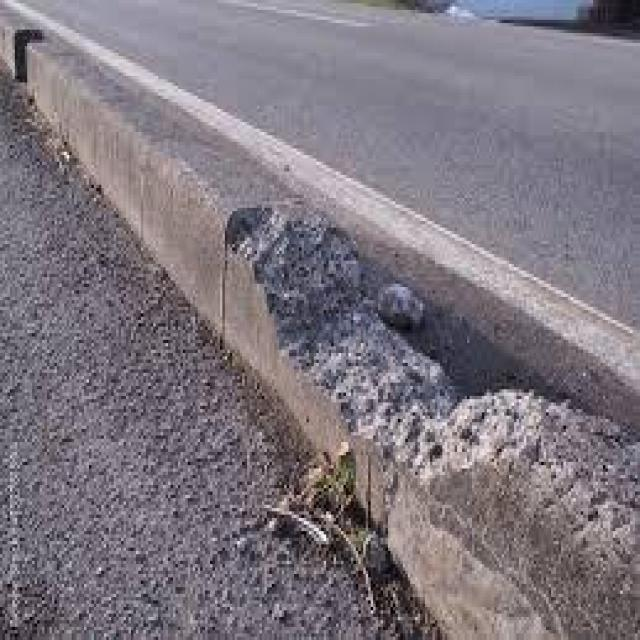curb: (318, 252, 640, 640), (163, 133, 302, 432), (59, 64, 150, 280), (1, 1, 45, 137)
